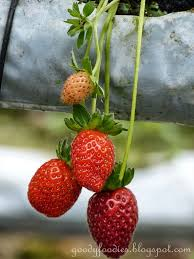ripe: (87, 180, 139, 257), (65, 124, 114, 198), (24, 157, 79, 222)
unripe: (59, 72, 99, 110)
